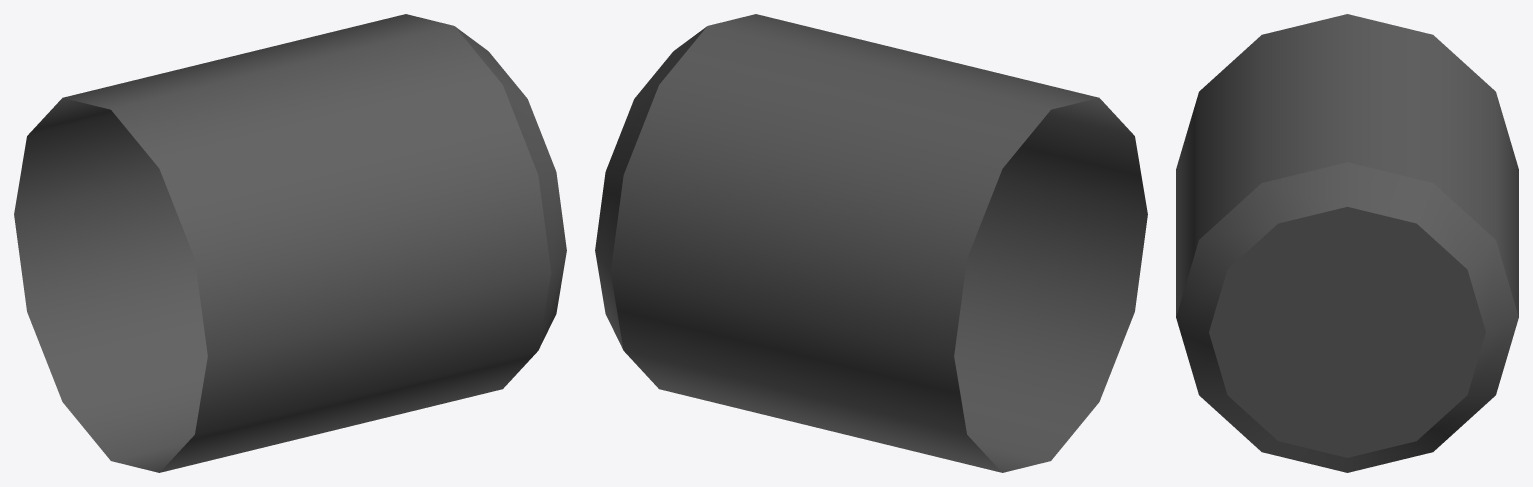
The model's file is nt_2020_signs_glass_01_bolt_LOD0.obj.
3 renders of one model, left to right at view 1: azimuth 30°, elevation 25°; view 2: azimuth 150°, elevation 25°; view 3: azimuth 270°, elevation 25°, orthographic. The views are drawn at different scales.
Parts seen in each view (by area): view 1: nt_2020_metal_chrome; view 2: nt_2020_metal_chrome; view 3: nt_2020_metal_chrome.
Part boxes in pixels (x1=…): nt_2020_metal_chrome: x1=14, y1=14, x2=566, y2=472; nt_2020_metal_chrome: x1=595, y1=14, x2=1147, y2=472; nt_2020_metal_chrome: x1=1176, y1=14, x2=1518, y2=472.
Bounding box in the file's own units: 8.84 × 7.86 × 7.86.
